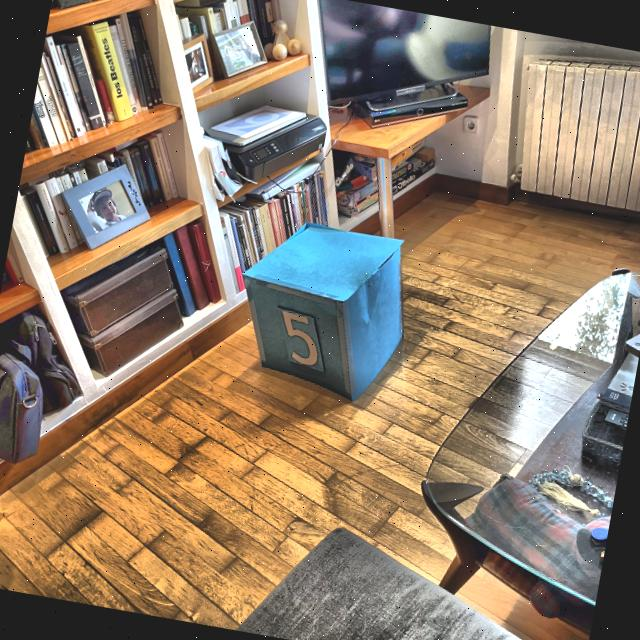blue box: (220, 210, 422, 410)
five: (270, 308, 326, 369)
